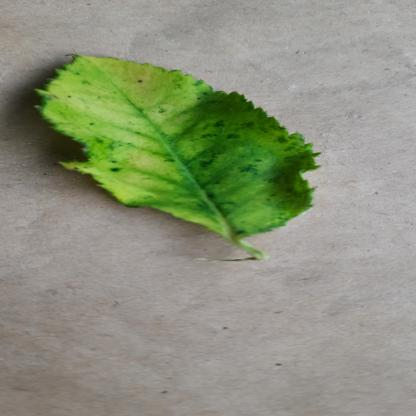black-spot: (28, 51, 332, 240)
